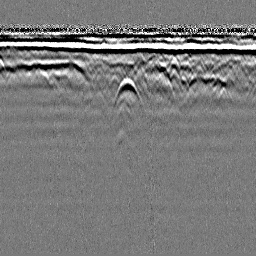cavity: (113, 78, 143, 108)
